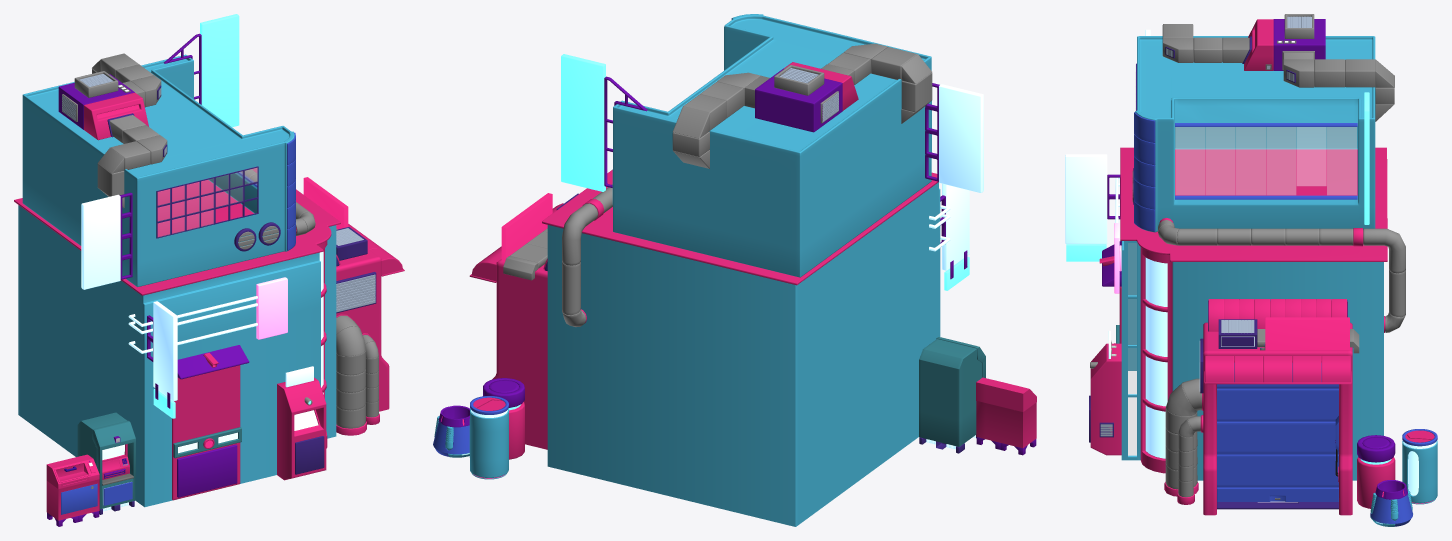
Rendered from sciFiHouse.glb.
The picture shows the model from 3 angles, left to right: view 1: azimuth 30°, elevation 25°; view 2: azimuth 150°, elevation 25°; view 3: azimuth 270°, elevation 25°; orthographic projection. The views are drawn at different scales.
Visible parts, largest first — view 1: H2_Cube.001, Sci-Fi House, H1_Plane:008:002, H1_Plane:008:001, D1_Plane:001:003, AC4_Cube:001.001, D2_Plane:048.001, Pi3:007_Pi3:017.001, S2_Plane:007.001, S3_Plane:017.001, H1_Plane:008:002.002, D1_Plane:001:003.002 (+24 smaller); view 2: Sci-Fi House, H2_Cube.001, AC4_Cube:001.001, D1_Plane:001:001, D1_Plane:001:003.002, S2_Plane:007.001, S3_Plane:017.001, H1_Plane:008:001, D1_Plane:001:003, AC5_Cube:002:004, Pi3:007_Pi3:017.001, Cylinder:002 (+9 smaller); view 3: H2_Cube.001, Sci-Fi House, H1_Plane:008:001, D1_Plane:001:003.006, H1_Plane:008:002.002, Pi3:007_Pi3:017.001, AC4_Cube:001.001, D1_Plane:001:001, H1_Plane:008:002.005, P2_Plane:006:001, S4_Plane:002.002, D1_Plane:001:003 (+27 smaller).
Boxes of the visible parts, x1,y1,x2,y2 form: H2_Cube.001: [22, 54, 294, 286]; Sci-Fi House: [18, 205, 336, 505]; H1_Plane:008:002: [142, 252, 320, 507]; H1_Plane:008:001: [14, 168, 340, 295]; D1_Plane:001:003: [46, 377, 326, 520]; AC4_Cube:001.001: [92, 53, 337, 229]; D2_Plane:048.001: [172, 365, 240, 500]; Pi3:007_Pi3:017.001: [241, 169, 378, 428]; S2_Plane:007.001: [200, 14, 239, 127]; S3_Plane:017.001: [81, 194, 120, 289]; H1_Plane:008:002.002: [158, 168, 257, 237]; D1_Plane:001:003.002: [77, 412, 135, 509]; Sci-Fi House: [547, 183, 938, 526]; H2_Cube.001: [612, 14, 931, 277]; AC4_Cube:001.001: [503, 43, 932, 280]; D1_Plane:001:001: [492, 259, 547, 449]; D1_Plane:001:003.002: [919, 337, 985, 446]; S2_Plane:007.001: [561, 54, 605, 191]; S3_Plane:017.001: [939, 84, 983, 192]; H1_Plane:008:001: [542, 170, 938, 285]; D1_Plane:001:003: [976, 377, 1036, 448]; AC5_Cube:002:004: [755, 68, 842, 132]; Pi3:007_Pi3:017.001: [562, 184, 612, 326]; Cylinder:002: [469, 409, 508, 479]; H2_Cube.001: [1135, 36, 1375, 232]; Sci-Fi House: [1128, 243, 1383, 480]; H1_Plane:008:001: [1120, 147, 1387, 261]; D1_Plane:001:003.006: [1217, 363, 1338, 501]; H1_Plane:008:002.002: [1135, 72, 1356, 194]; Pi3:007_Pi3:017.001: [1158, 220, 1405, 497]; AC4_Cube:001.001: [1162, 24, 1394, 353]; D1_Plane:001:001: [1203, 322, 1352, 515]; H1_Plane:008:002.005: [1145, 257, 1167, 458]; P2_Plane:006:001: [1205, 356, 1350, 382]; S4_Plane:002.002: [1065, 154, 1107, 244]; D1_Plane:001:003: [1090, 343, 1121, 455].
Size of the model in its own units: 5.83 by 5.02 by 4.59.
